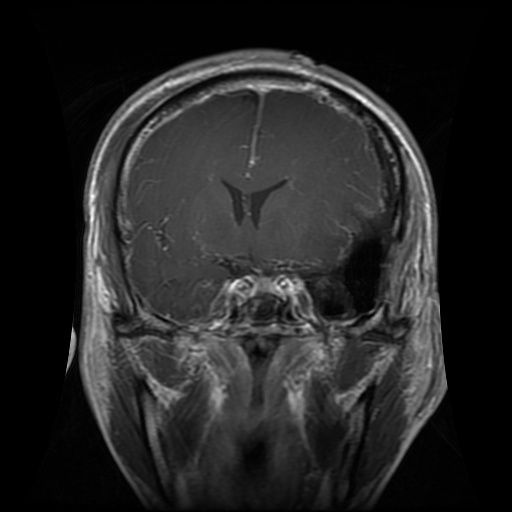glioma: (300, 122, 401, 322)
